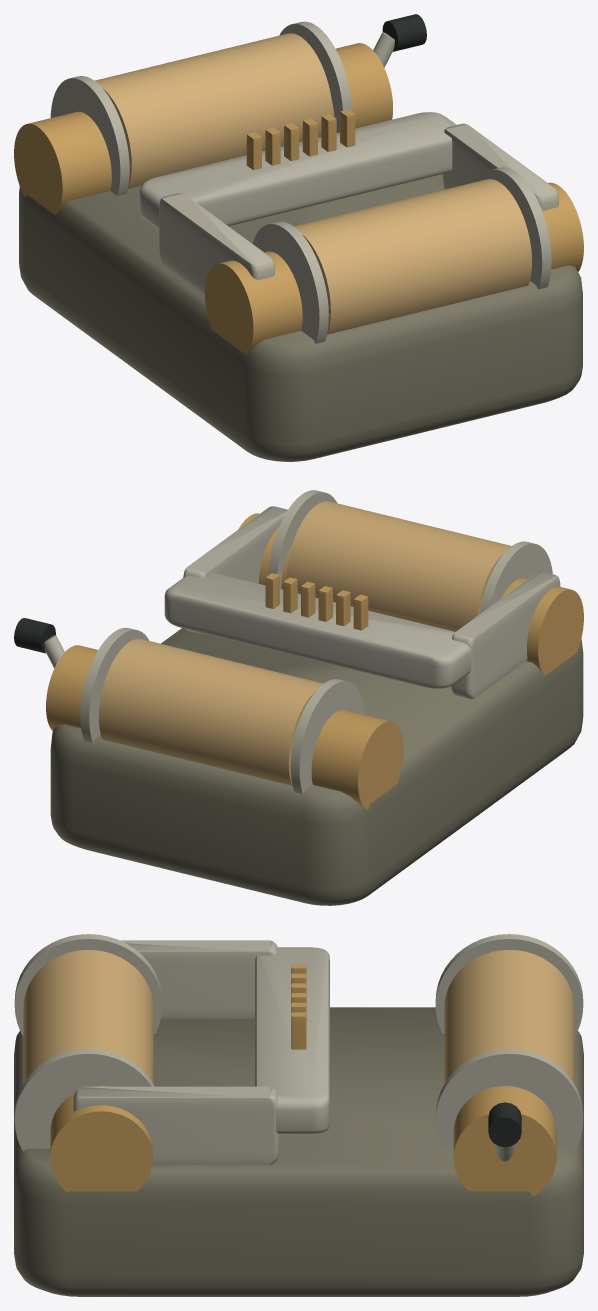
The model's file is Executive.glb.
3 views of the same model, one above another, from view 1: azimuth 30°, elevation 25°; view 2: azimuth 150°, elevation 25°; view 3: azimuth 270°, elevation 25° (orthographic). The views are drawn at different scales.
Parts seen in each view (by area): view 1: Recorder casing, Wound paper (×2), Tape axle (×2), Reader throat, Feed reel lip (×4), Ribbon guard (×2), Crank grip; view 2: Recorder casing, Wound paper (×2), Reader throat, Tape axle (×2), Feed reel lip (×4), Ribbon guard (×2), Crank grip; view 3: Recorder casing, Wound paper (×2), Ribbon guard (×2), Feed reel lip (×4), Tape axle (×2), Reader throat, Crank grip, Reader spring.
Part boxes in pixels (x1,y1,x2,y2): Recorder casing: [19, 174, 582, 461]; Wound paper (×2): [95, 33, 531, 334]; Tape axle (×2): [14, 43, 583, 355]; Reader throat: [139, 112, 456, 229]; Feed reel lip (×4): [50, 21, 551, 343]; Ribbon guard (×2): [159, 123, 558, 293]; Crank grip: [382, 14, 426, 51]; Recorder casing: [50, 628, 583, 905]; Wound paper (×2): [99, 501, 511, 785]; Reader throat: [164, 572, 471, 688]; Tape axle (×2): [46, 513, 583, 809]; Feed reel lip (×4): [80, 490, 552, 794]; Ribbon guard (×2): [183, 506, 560, 699]; Crank grip: [14, 618, 55, 653]; Recorder casing: [14, 1007, 583, 1296]; Wound paper (×2): [23, 950, 574, 1083]; Ribbon guard (×2): [73, 940, 279, 1165]; Feed reel lip (×4): [14, 934, 583, 1151]; Tape axle (×2): [50, 1086, 556, 1196]; Reader throat: [255, 947, 329, 1134]; Crank grip: [488, 1102, 521, 1147]; Reader spring: [291, 1012, 306, 1049].
Bounding box in the file's own units: 1.06 × 0.5675 × 1.3.
